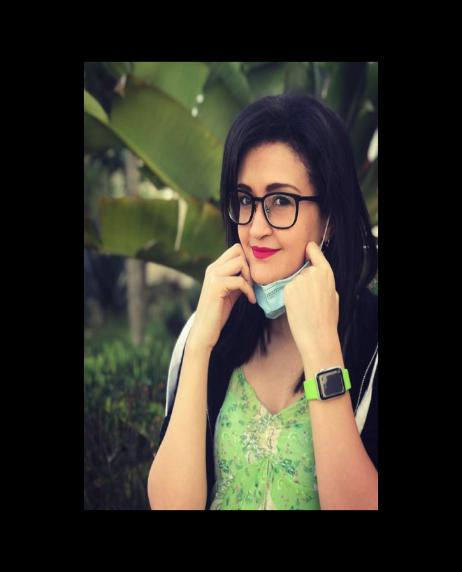mask_weared_incorrect: (239, 176, 313, 316)
